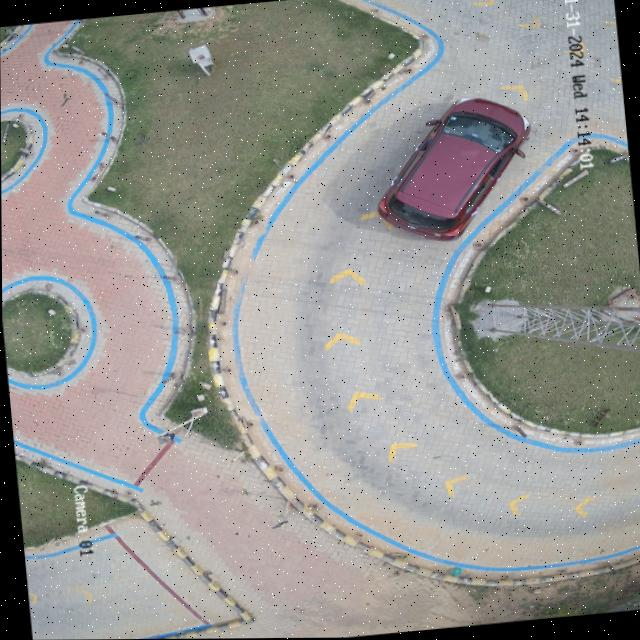car: (375, 98, 530, 242)
